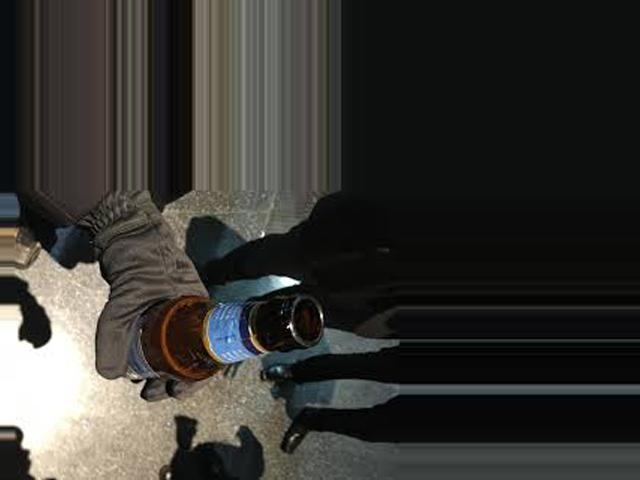beer: (107, 292, 323, 386)
